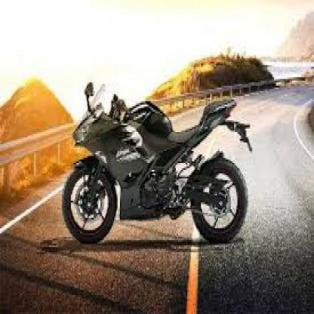Motocicleta: (60, 67, 260, 252)
